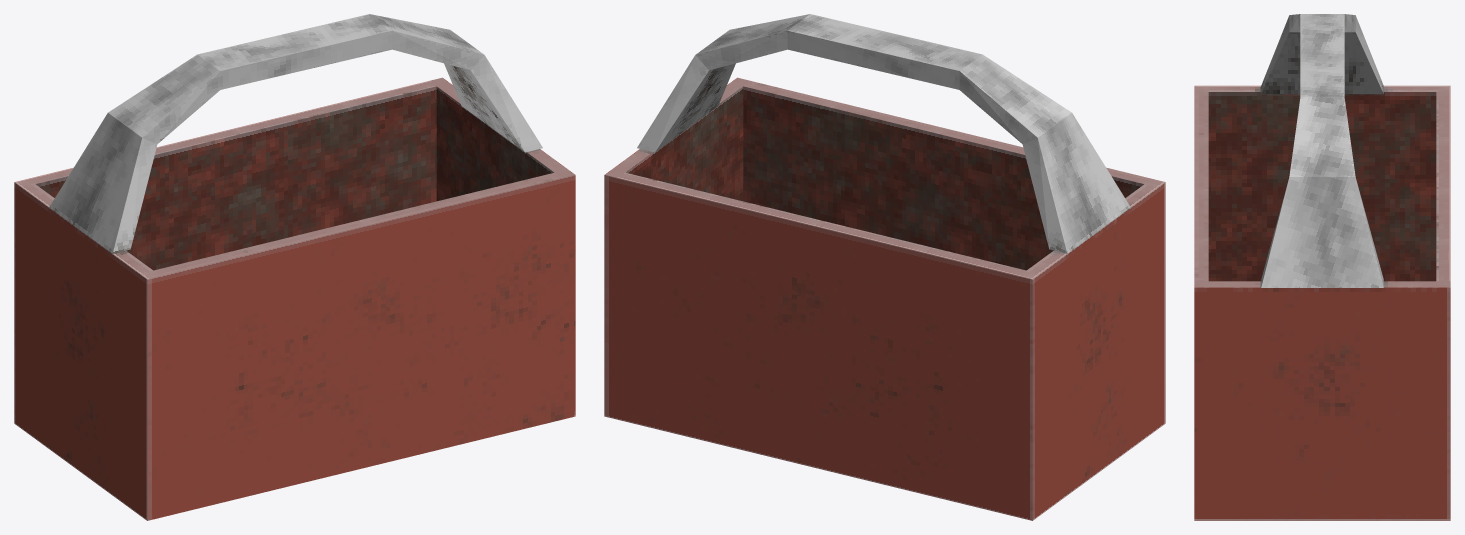
File: Toolbox.glb
3 views of the same model, side by side, from view 1: azimuth 30°, elevation 25°; view 2: azimuth 150°, elevation 25°; view 3: azimuth 270°, elevation 25° (orthographic). The views are drawn at different scales.
Visible parts, largest first — view 1: Cube, Cube.001; view 2: Cube, Cube.001; view 3: Cube, Cube.001.
Boxes of the visible parts, x1,y1,x2,y2 form: Cube: (14,77,575,520); Cube.001: (49,14,542,253); Cube: (604,77,1165,520); Cube.001: (637,14,1130,253); Cube: (1194,85,1450,520); Cube.001: (1261,14,1383,287).
Bounding box in the file's own units: 0.7708 × 0.6472 × 0.4119.
Materials: 1 (1 with a texture image).
